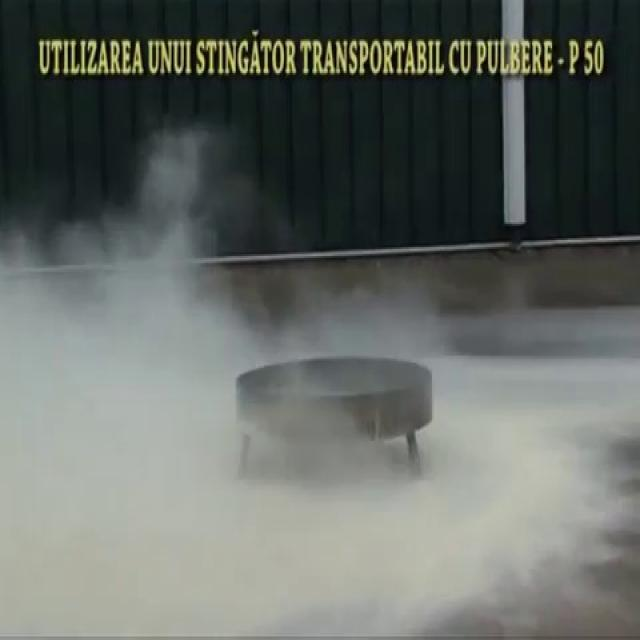Smoke: (0, 3, 351, 524)
